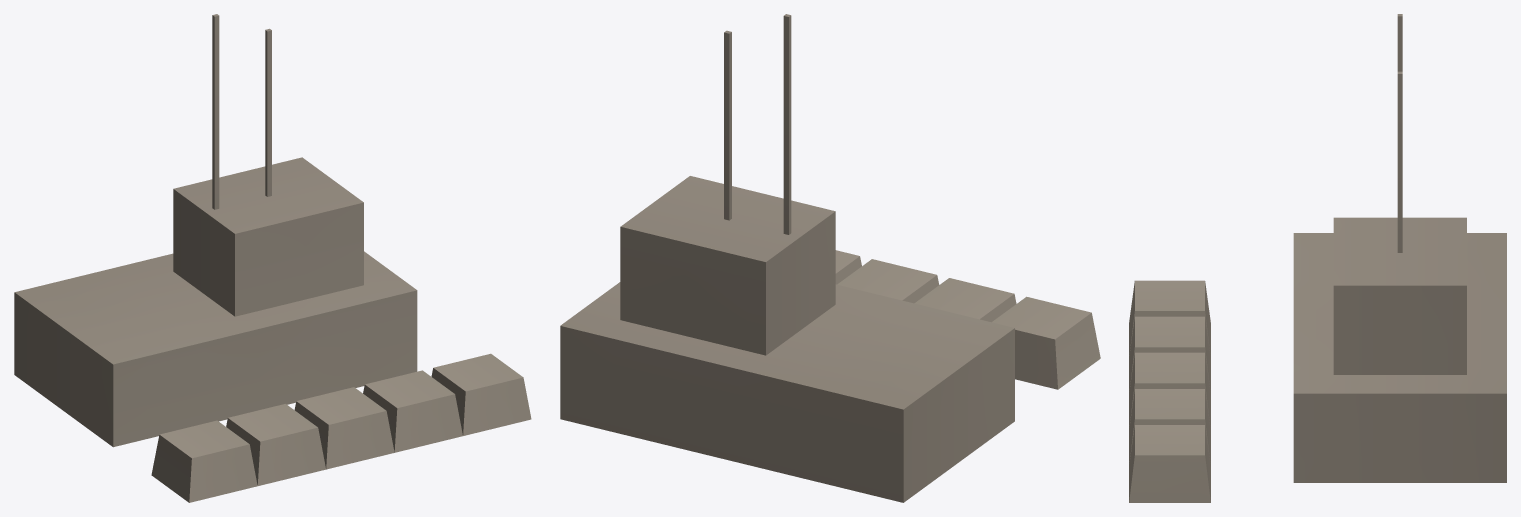
Rendered from Bld_Top_Euipment_A.fbx.
3 views of the same model, side by side, from view 1: azimuth 30°, elevation 25°; view 2: azimuth 150°, elevation 25°; view 3: azimuth 270°, elevation 25° (orthographic). The views are drawn at different scales.
Parts seen in each view (by area): view 1: Bld_Top_Euipment_A; view 2: Bld_Top_Euipment_A; view 3: Bld_Top_Euipment_A.
Boxes of the visible parts, x1,y1,x2,y2 form: Bld_Top_Euipment_A: (14,14,531,502); Bld_Top_Euipment_A: (560,14,1100,502); Bld_Top_Euipment_A: (1129,14,1506,502).
Bounding box in the file's own units: 1298 × 1300 × 1149.
